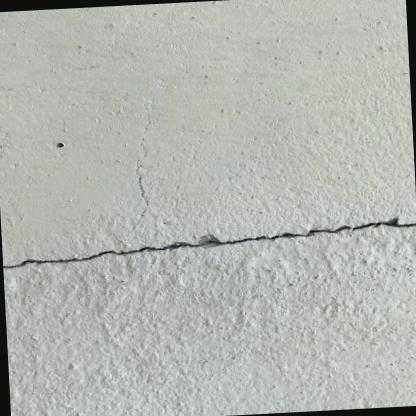crack: (3, 221, 416, 268)
